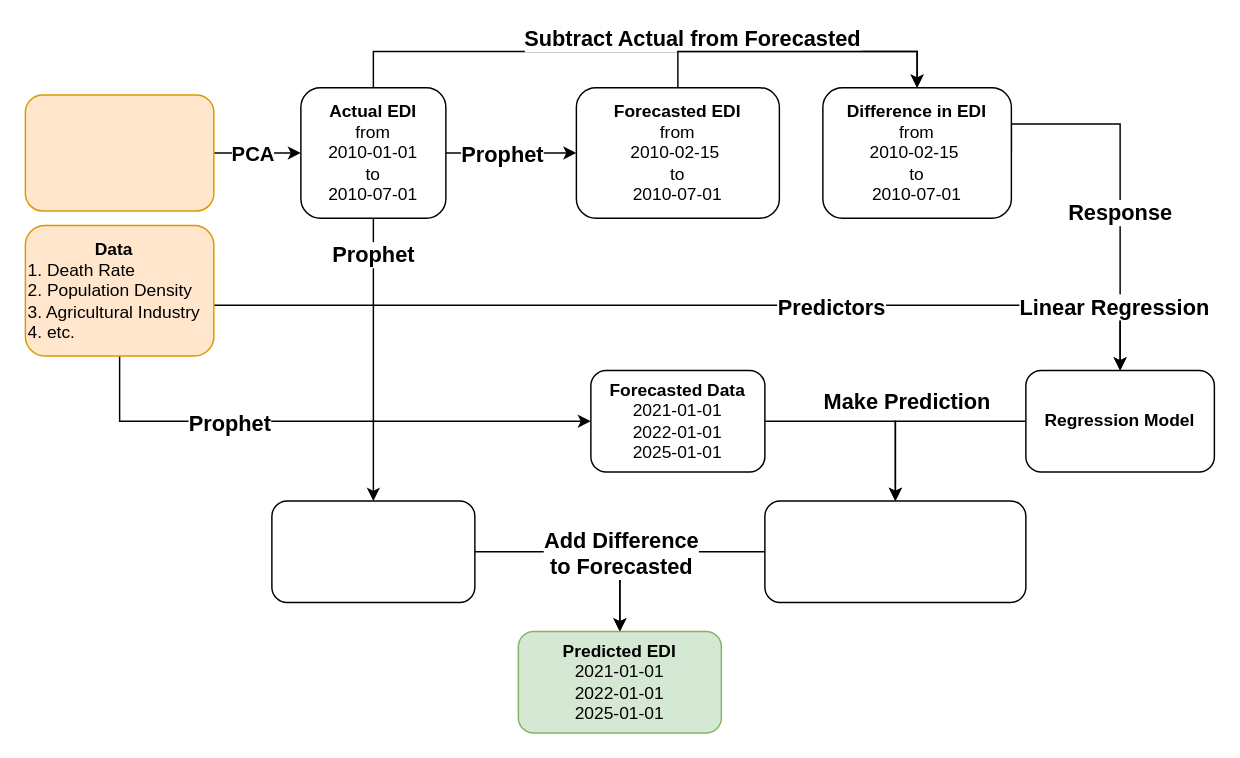
The diagram is 1240 pixels wide and 758 high, and some of its shapes have lost their labels. Here are the shapes that lost their labels. From the top down, the centre of each, then its label:
At pixel 119 152: "Data 1. GDP 2. Employment Rate 3. Stock Market Index".
At pixel 372 551: "Forecasted EDI 2021-01-01 2022-01-01 2025-01-01".
At pixel 894 551: "Predicted Difference In EDI 2021-01-01 2022-01-01 2025-01-01".
